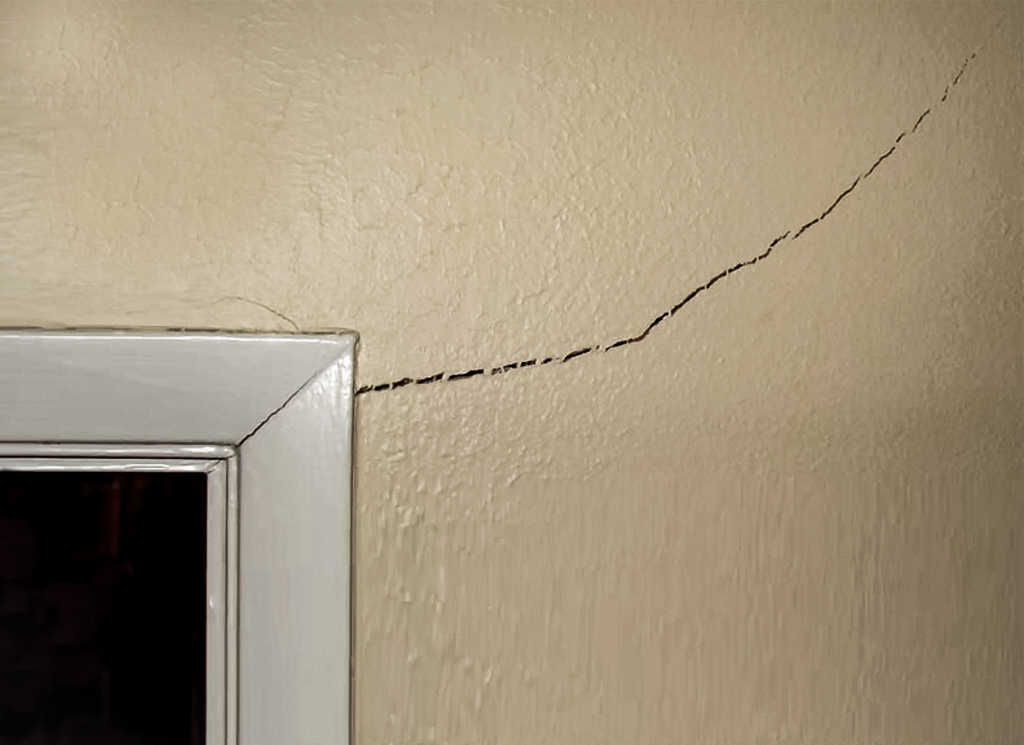crack: (361, 25, 994, 390)
